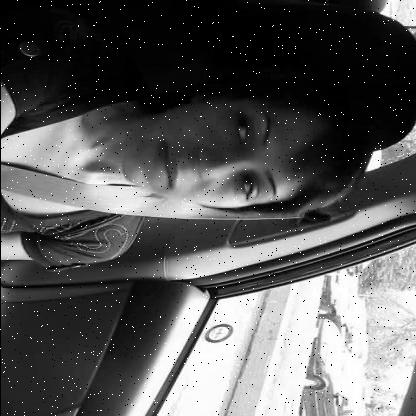seatbelt: (0, 57, 383, 251)
